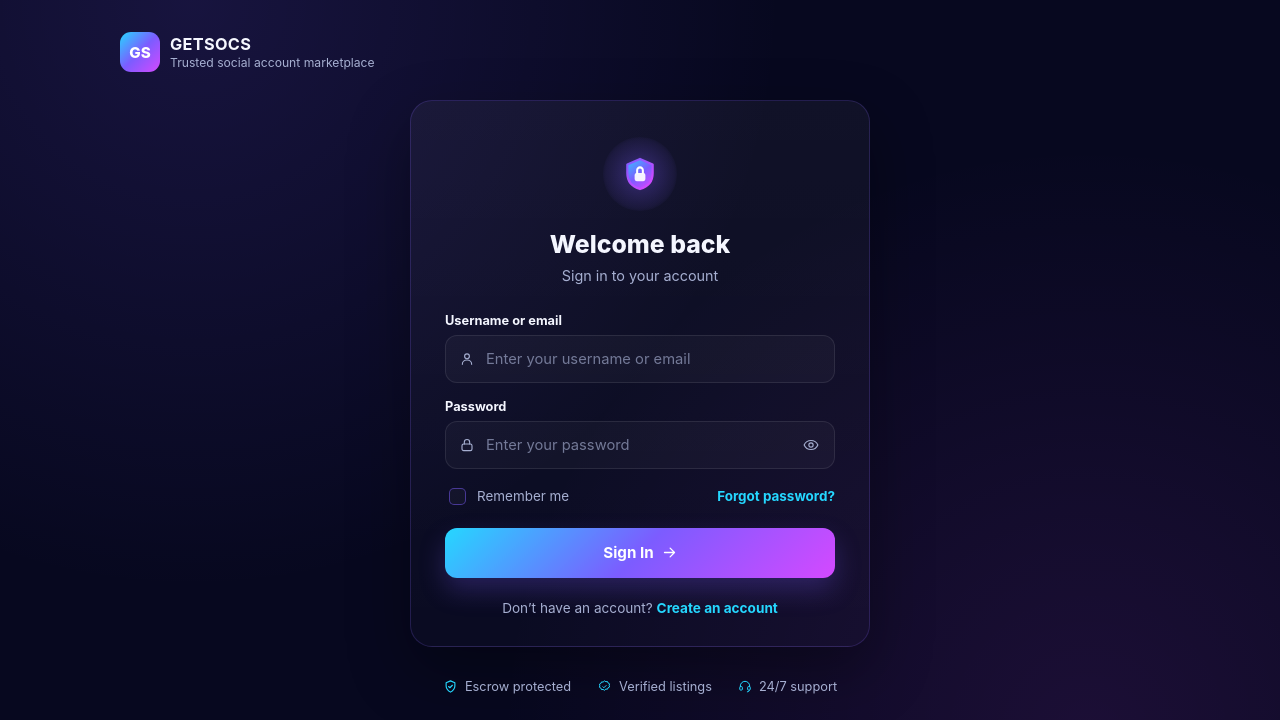
Test case: Redesigned auth pages — render + core interactions › Login: "Back to sign in" from the forgot-password card returns to Welcome back
Click the button "Forgot password?".
click(776, 496)  # box [717,488,835,504]
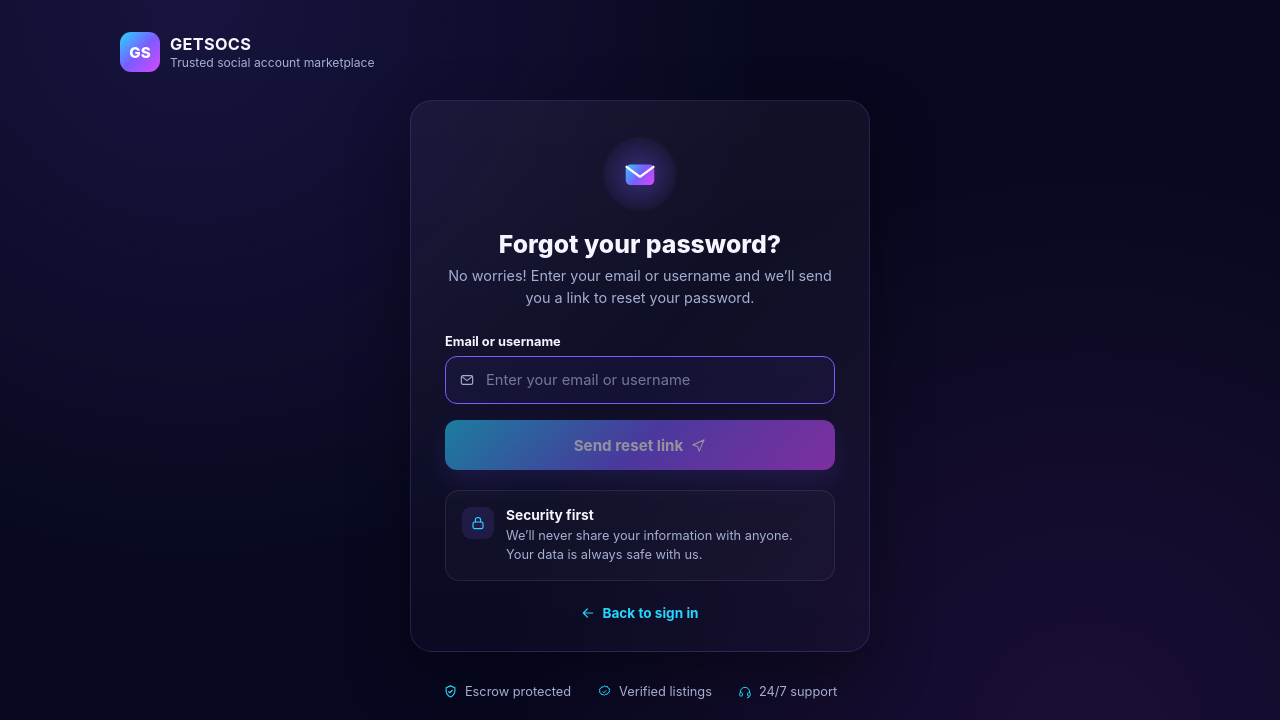
Expected: the heading "Forgot your password?" is shown, [499,229,781,259]
Click the link with class "auth-back-link".
click(640, 613)  # box [581,605,698,621]
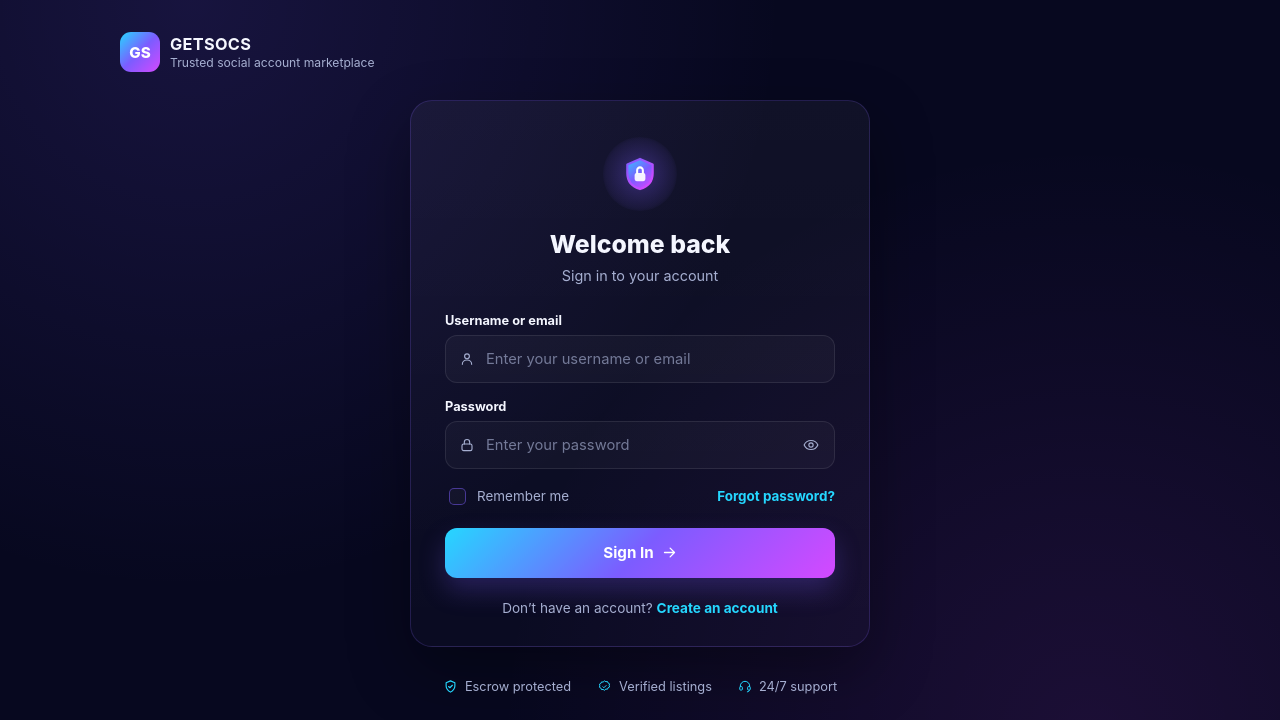
Expected: the heading "Welcome back" is shown, [550,229,730,259]
